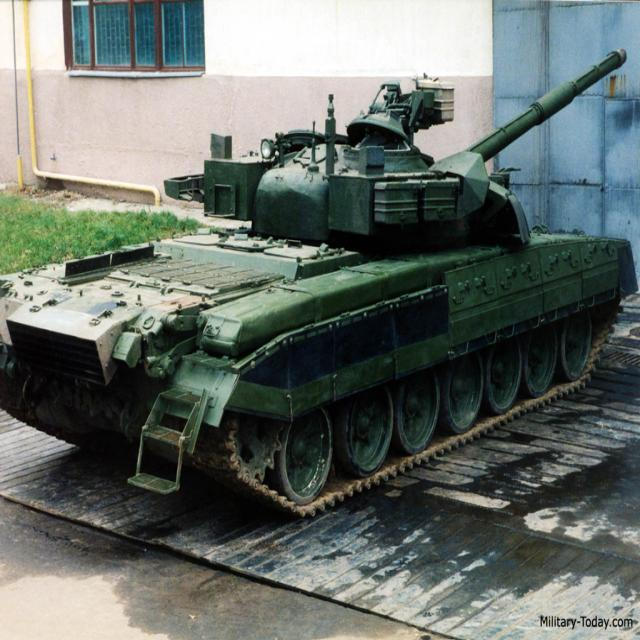Tank: (6, 65, 630, 445)
